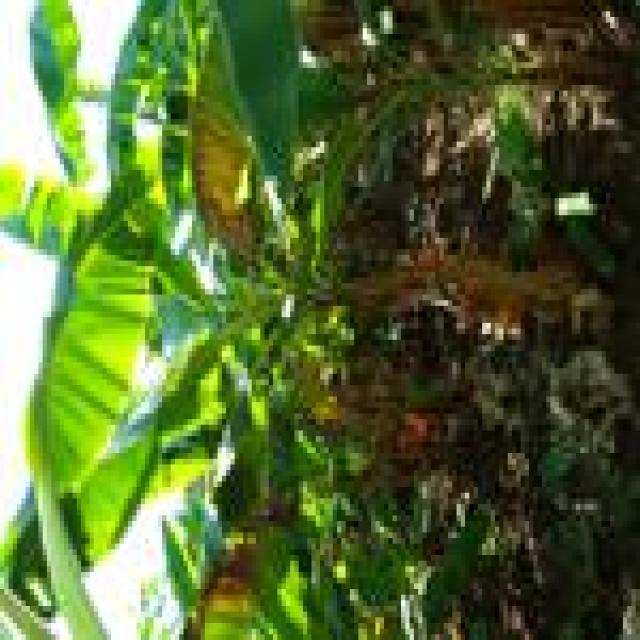Early_rust: (154, 489, 311, 640), (168, 83, 279, 290)
